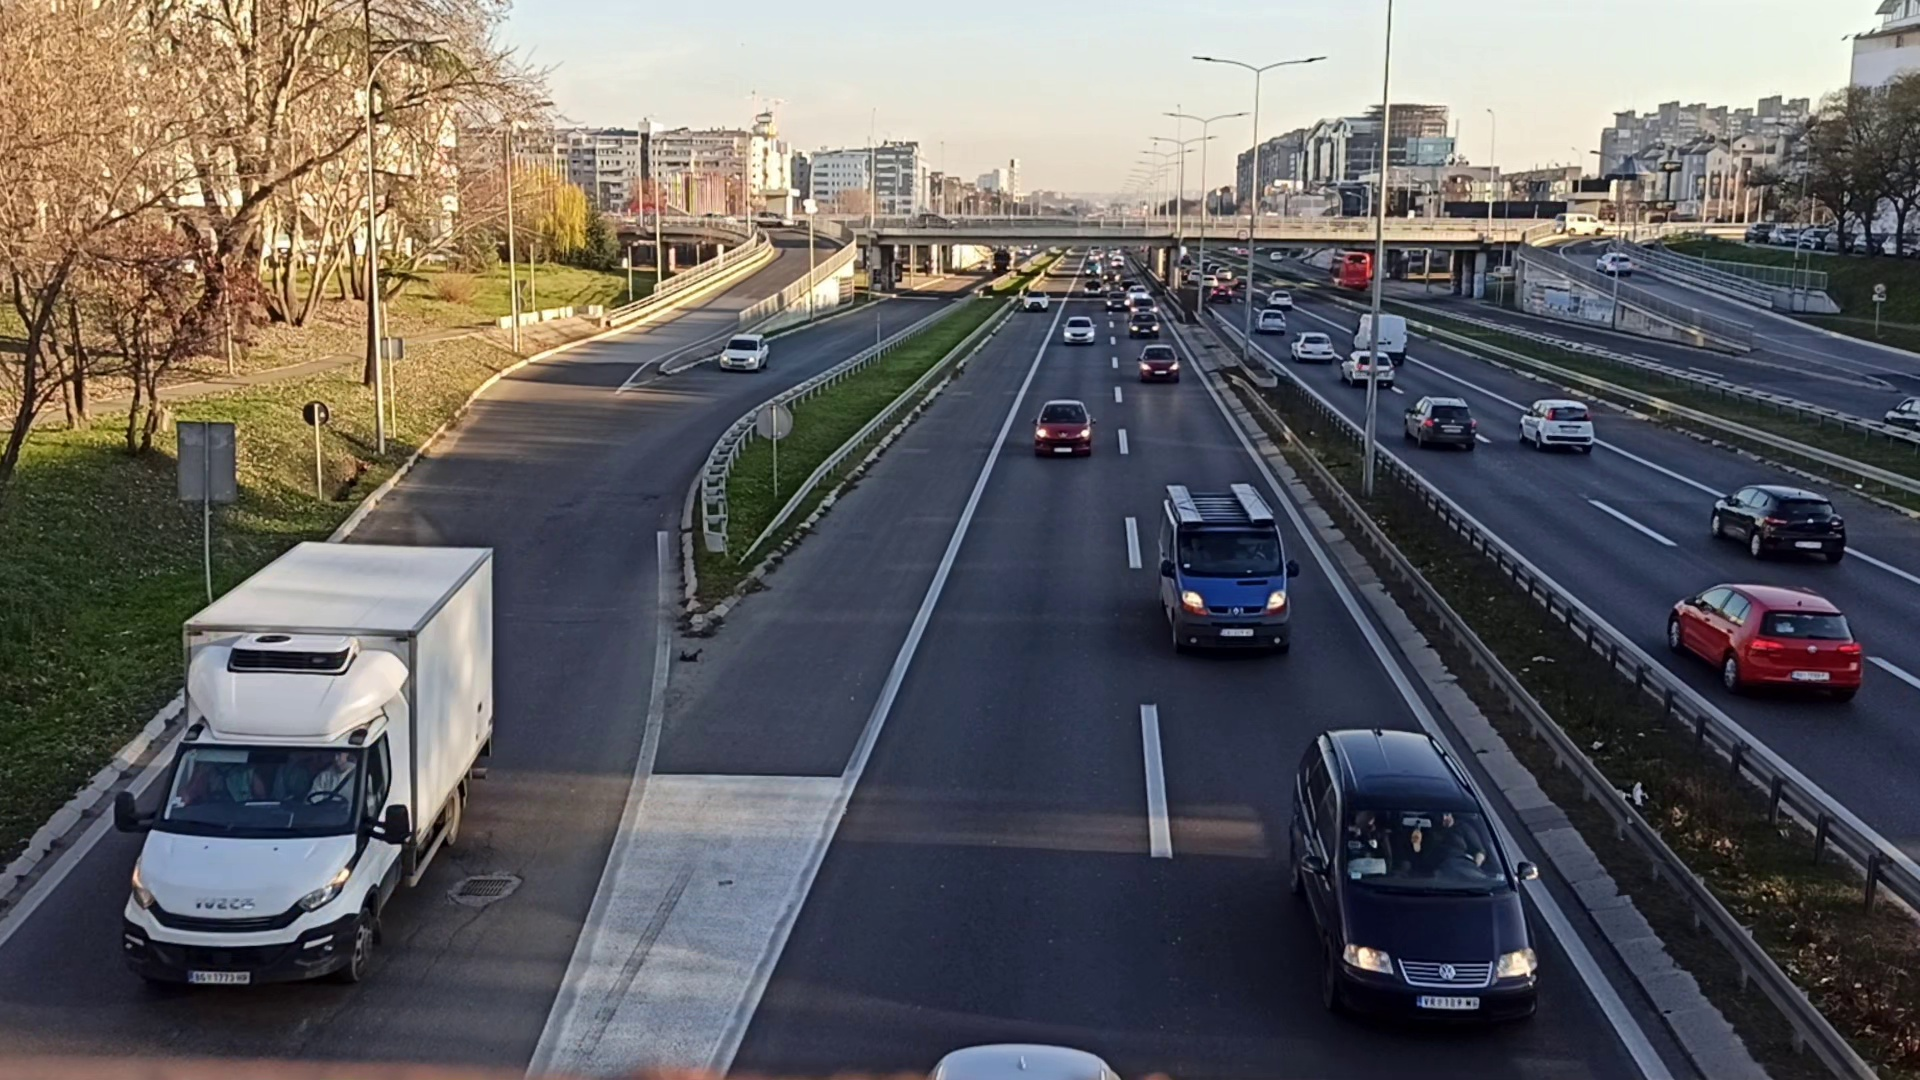car: (1665, 579, 1865, 702), (1712, 477, 1846, 568), (1519, 394, 1597, 454), (1404, 396, 1476, 454), (1035, 400, 1091, 454), (720, 334, 770, 375), (1341, 352, 1391, 386), (1138, 344, 1178, 381), (1290, 331, 1333, 361), (1062, 315, 1095, 344)
truck: (115, 541, 505, 1004)
van: (1284, 724, 1540, 1033), (1158, 487, 1295, 657), (1354, 311, 1407, 365)
